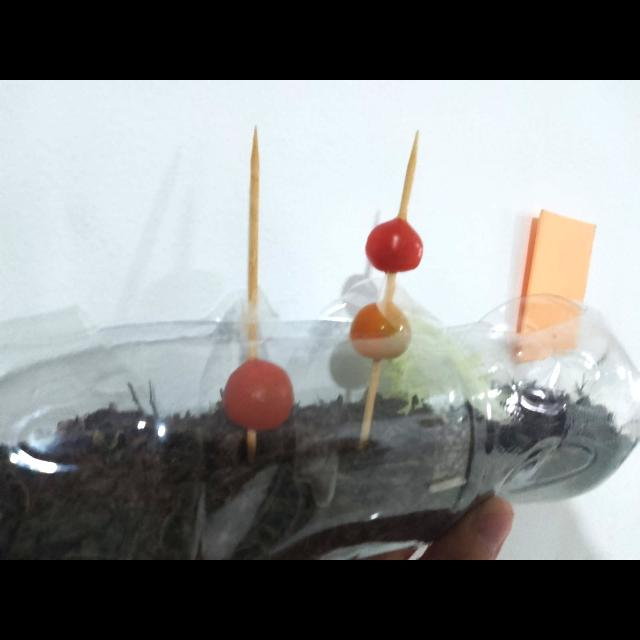card: (516, 210, 595, 362)
fruit_maturation: (223, 359, 294, 431), (350, 303, 410, 360)
fully_grown: (365, 218, 423, 273)
